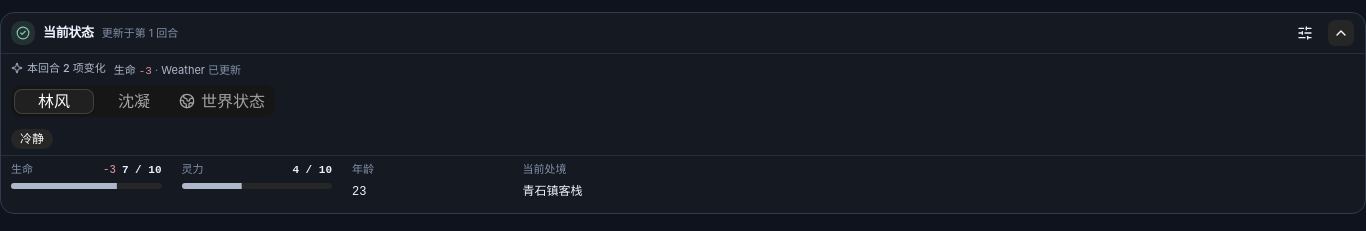
Test: StoryStateLedger › restores the expanded default only when a new turn begins
Expected: the text "生命" is shown, [114, 63, 136, 77]
Click the button named "折叠状态面板". click: x=1341, y=33
box: [1327, 19, 1355, 47]
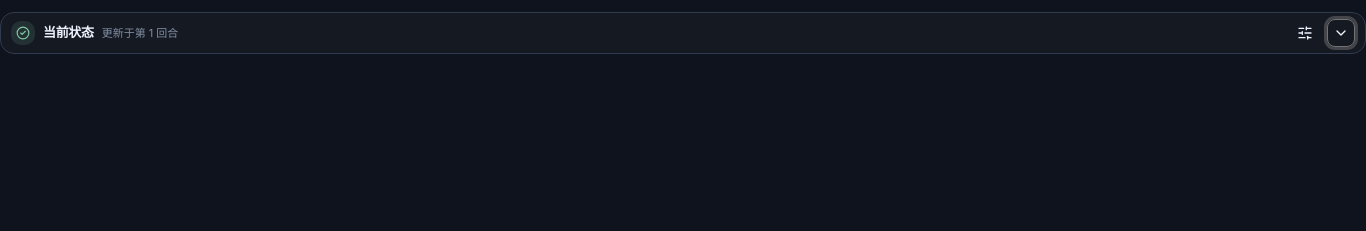
Expected: the text "生命" is not shown
